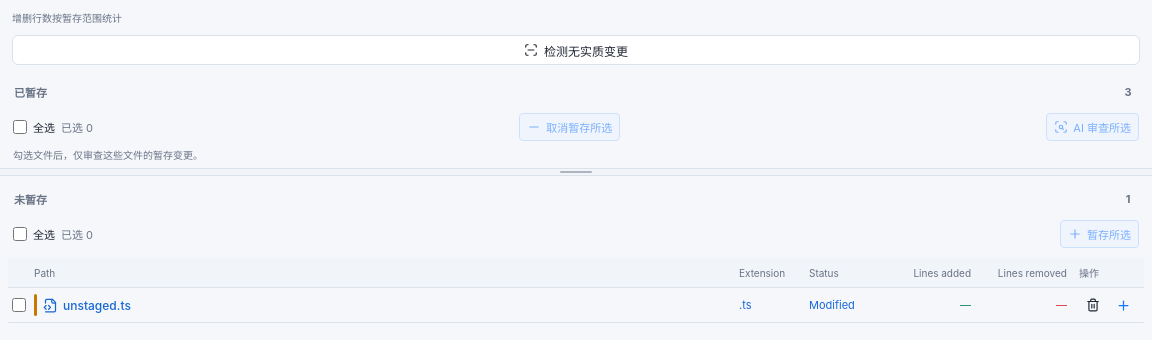
Test: selected staged review › requires repository skill before starting
Click the checkbox named "全选已暂存文件" at (20, 127), box [13,120,27,134]
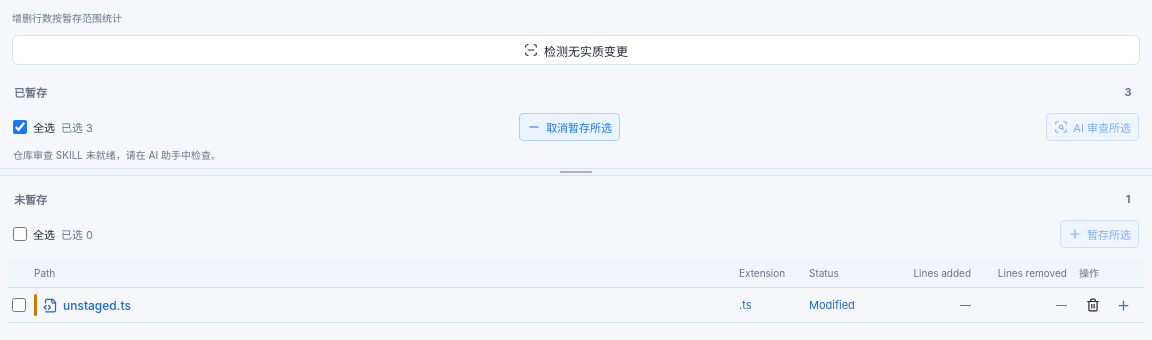
Expected: the button with aria-label "AI 审查所选暂存文件" is disabled, [1046,113,1139,141]
Expected: the text "SKILL" is shown, [13,149,221,161]
